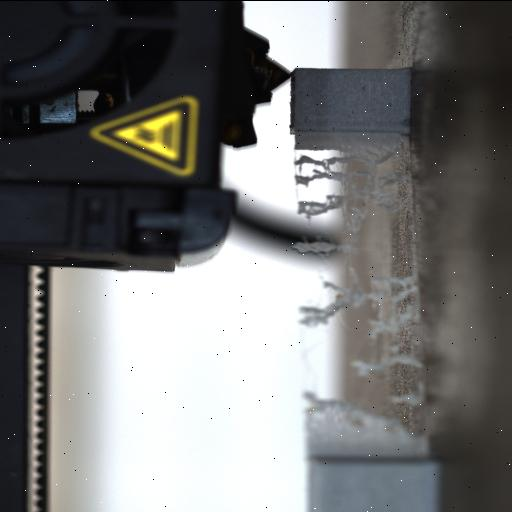stringing: (292, 142, 408, 240), (300, 388, 406, 432), (294, 276, 364, 327)
